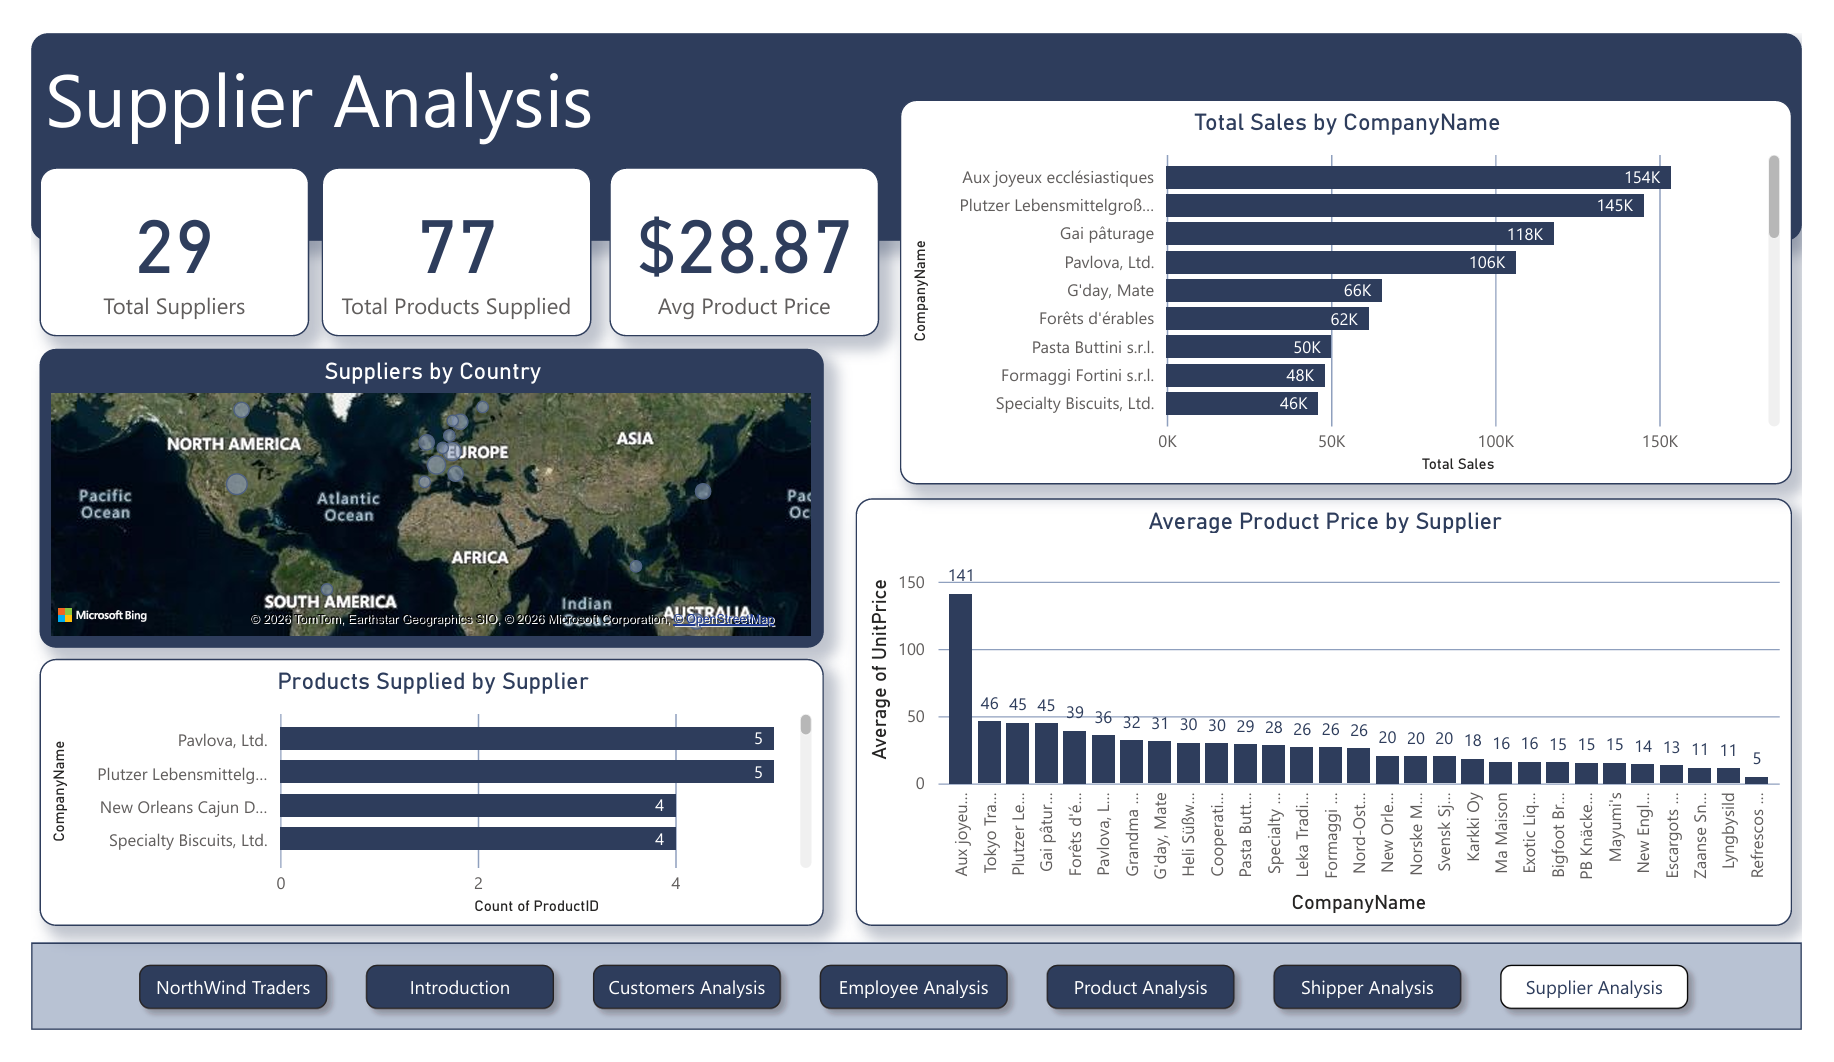

The page's visual inventory and layout, read from the dashboard file:
{"tool":"powerbi","page":{"name":"Supplier Analysis","canvas":[1280,720],"ordinal":6},"visuals":[{"type":"textbox","box":[0,0,1280,150],"z":0},{"type":"columnChart","title":"Average Product Price by Supplier","fields":{"Y":["Avg(products.UnitPrice)"],"Category":["suppliers.CompanyName"]},"box":[595.8,336.4,677.4,308.3],"z":1000},{"type":"map","title":"Suppliers by Country","fields":{"Category":["suppliers.Country"],"Size":["CountNonNull(suppliers.SupplierID)"]},"box":[6.3,227.6,566.8,216.7],"z":2000},{"type":"group","id":"g1","title":"Group 1","box":[0,657,1280,63],"z":3000},{"type":"card","fields":{"Values":["suppliers.Total Suppliers"]},"box":[6.3,97,195,121.5],"z":4000},{"type":"card","fields":{"Values":["suppliers.Total Products Supplied"]},"box":[210.4,97,195,121.5],"z":5000},{"type":"barChart","title":"Products Supplied by Supplier","fields":{"Category":["suppliers.CompanyName"],"Y":["CountNonNull(products.ProductID)"]},"box":[6.3,452.5,566.8,192.2],"z":6000},{"type":"textbox","box":[0,657,1280,63],"z":6001,"group":"g1"},{"type":"pageNavigator","box":[69,664,1141,50],"z":6501,"group":"g1"},{"type":"card","fields":{"Values":["suppliers.Avg Product Price"]},"box":[418,97,195,121.5],"z":7000},{"type":"barChart","fields":{"Category":["suppliers.CompanyName"],"Y":["order details.Total Sales"]},"box":[627.5,48.1,645.6,278.4],"z":8000}]}

Visuals, with their boxes in screenshot pixels (x1, y1, x2, y2), scaled from the page's 1280x720 canvas onto the 1834x1062 screenshot:
textbox: [x1=0, y1=0, x2=1833, y2=221]
"Average Product Price by Supplier" columnChart: [x1=854, y1=496, x2=1824, y2=951]
"Suppliers by Country" map: [x1=9, y1=336, x2=821, y2=655]
"Group 1" group: [x1=0, y1=969, x2=1833, y2=1061]
card - suppliers.Total Suppliers: [x1=9, y1=143, x2=288, y2=322]
card - suppliers.Total Products Supplied: [x1=301, y1=143, x2=581, y2=322]
"Products Supplied by Supplier" barChart: [x1=9, y1=667, x2=821, y2=951]
textbox: [x1=0, y1=969, x2=1833, y2=1061]
pageNavigator: [x1=99, y1=979, x2=1734, y2=1053]
card - suppliers.Avg Product Price: [x1=599, y1=143, x2=878, y2=322]
barChart - suppliers.CompanyName x order details.Total Sales: [x1=899, y1=71, x2=1824, y2=482]
